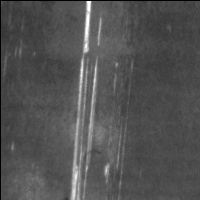scratches: (69, 1, 101, 200), (102, 140, 128, 194)
